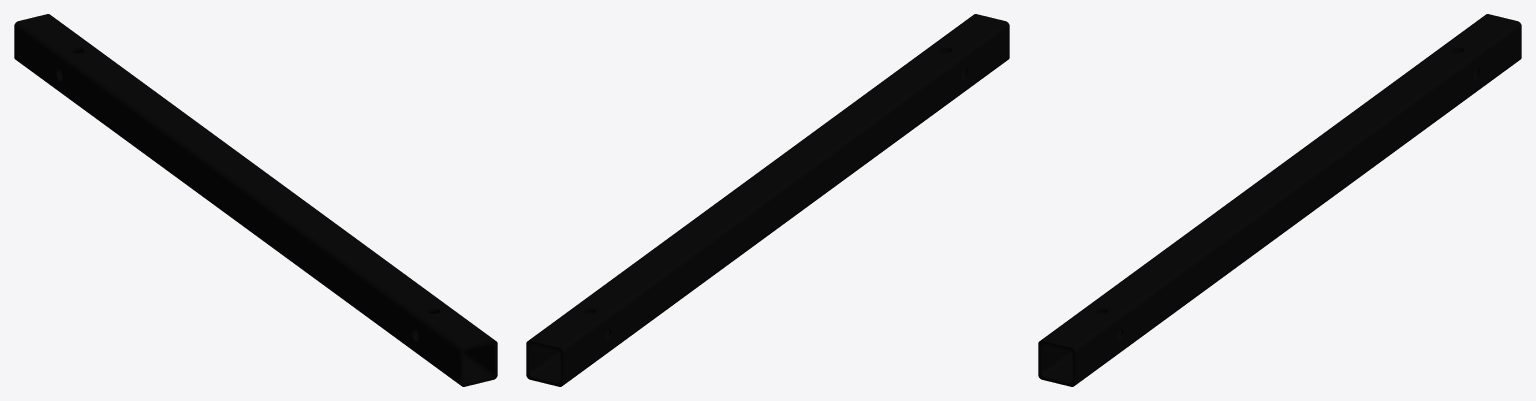
The model's file is Profile_415_UV.glb.
The picture shows the model from 3 angles, left to right: view 1: azimuth 30°, elevation 25°; view 2: azimuth 150°, elevation 25°; view 3: azimuth 330°, elevation 25°; orthographic projection.
Parts seen in each view (by area): view 1: Profile_415; view 2: Profile_415; view 3: Profile_415.
Part boxes in pixels (<box>): Profile_415: <box>14,14,497,386</box>; Profile_415: <box>526,14,1009,386</box>; Profile_415: <box>1038,14,1521,386</box>.
Size of the model in its own units: 0.02 by 0.02 by 0.415.
1 material, 1 textured.
